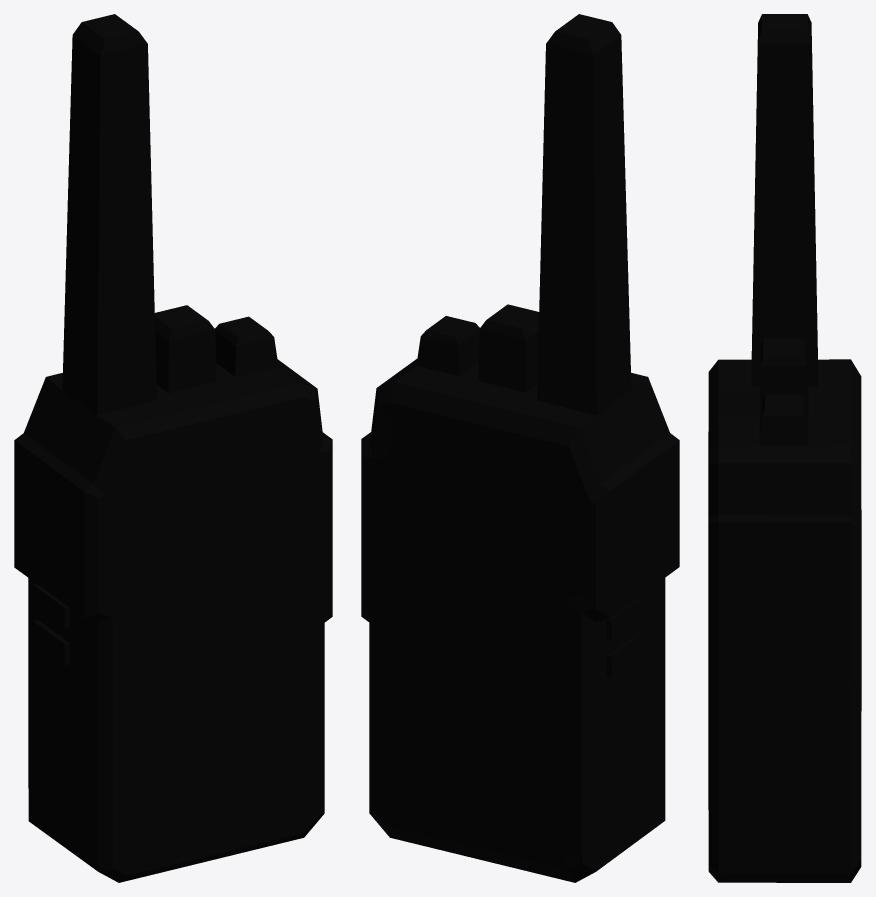
The model's file is radio.fbx.
3 views of the same model, side by side, from view 1: azimuth 30°, elevation 25°; view 2: azimuth 150°, elevation 25°; view 3: azimuth 270°, elevation 25° (orthographic). The views are drawn at different scales.
Parts seen in each view (by area): view 1: Radio; view 2: Radio; view 3: Radio.
Part boxes in pixels (x1=…): Radio: x1=14, y1=14, x2=332, y2=882; Radio: x1=361, y1=14, x2=679, y2=882; Radio: x1=708, y1=14, x2=861, y2=882.
Bounding box in the file's own units: 6.34 × 20.04 × 3.53.
